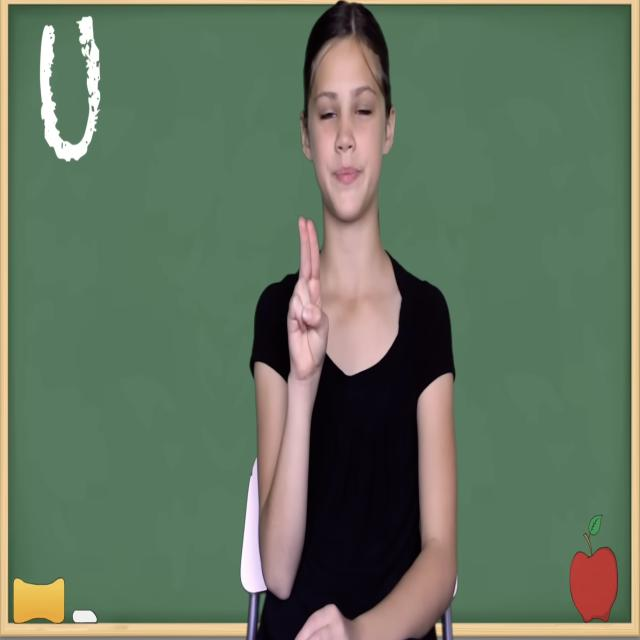U: (280, 204, 334, 413)
